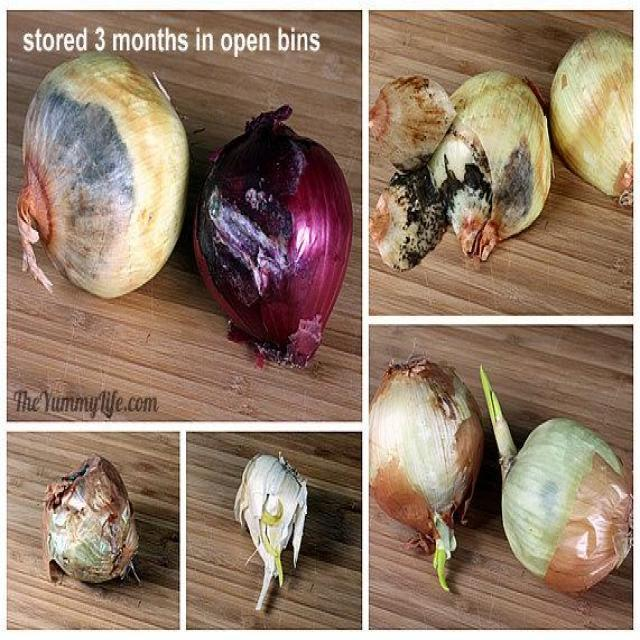Onion: (194, 107, 353, 365), (18, 54, 184, 297), (370, 69, 555, 273), (503, 419, 640, 589), (368, 358, 484, 551), (553, 29, 640, 211), (43, 457, 162, 589), (236, 454, 309, 615), (480, 362, 518, 457), (427, 520, 458, 590)
